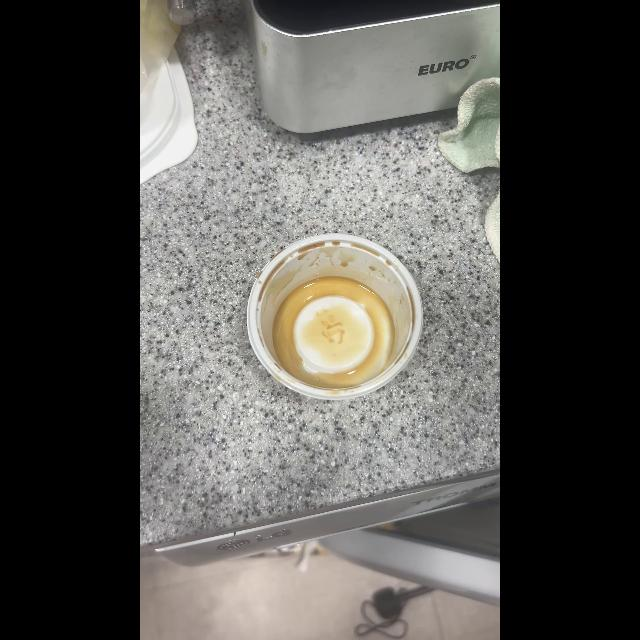dirty: (244, 234, 420, 398)
